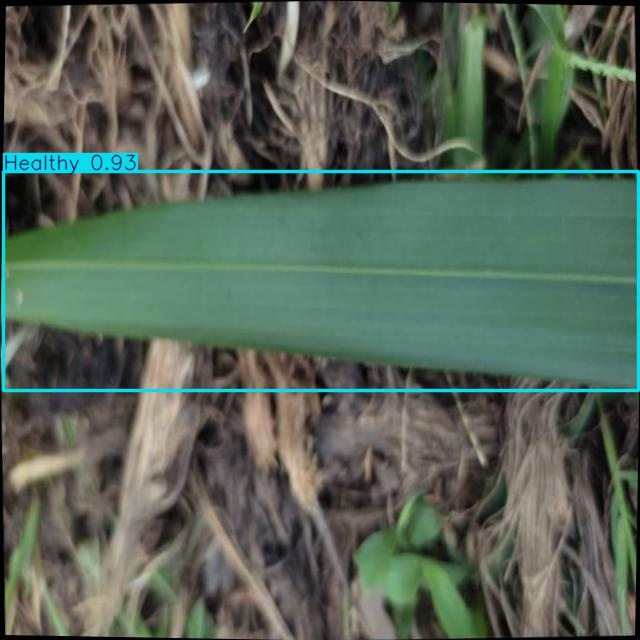Healthy: (3, 172, 638, 391)
